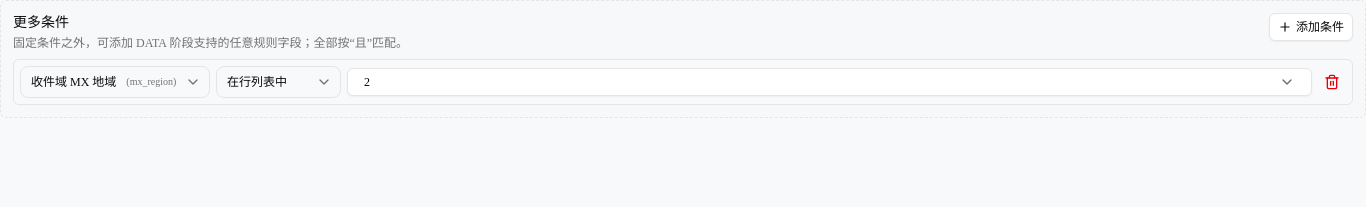
Test: CompactConditionEditor 枚举值输入（GT-12914） › mx_region 支持单选、多选和取反算子
Expected: the dropdown with test id "mr-ob-rule-more-condition-field-0" shows "收件域 MX 地域", [20,66,210,98]
Expected: the button with test id "mr-ob-rule-more-condition-value-0" reads "2", [347,68,1312,96]
Click the dropdown with test id "mr-ob-rule-more-condition-operator-0" at (278, 82), box [216,66,341,98]
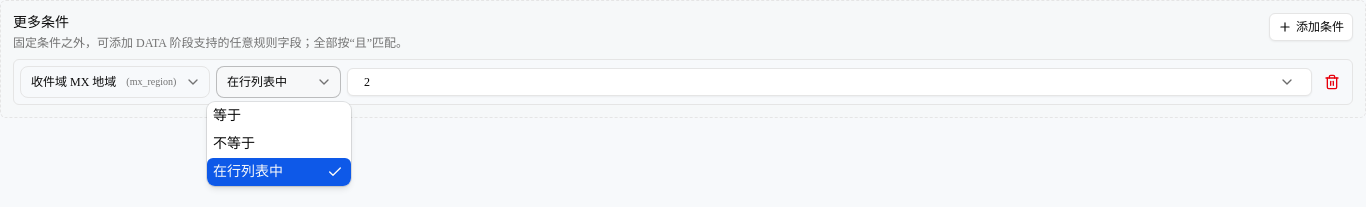
Result: the text "不等于" is shown at [213,136,255,151]
